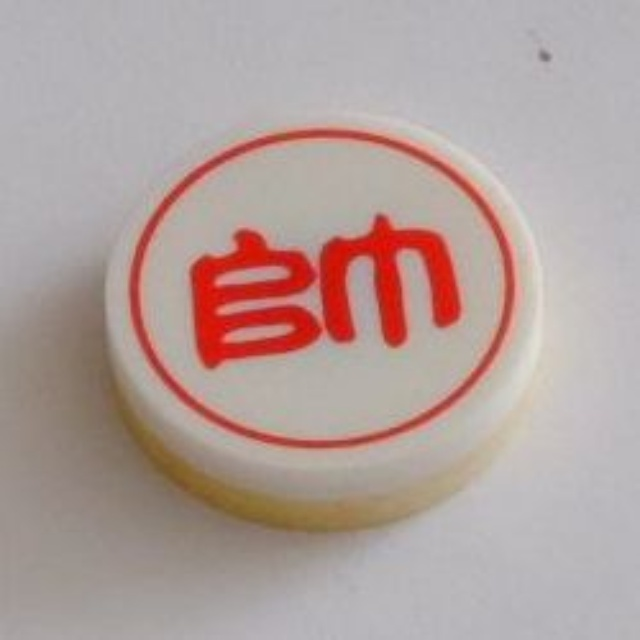red_tuong: (89, 100, 552, 524)
